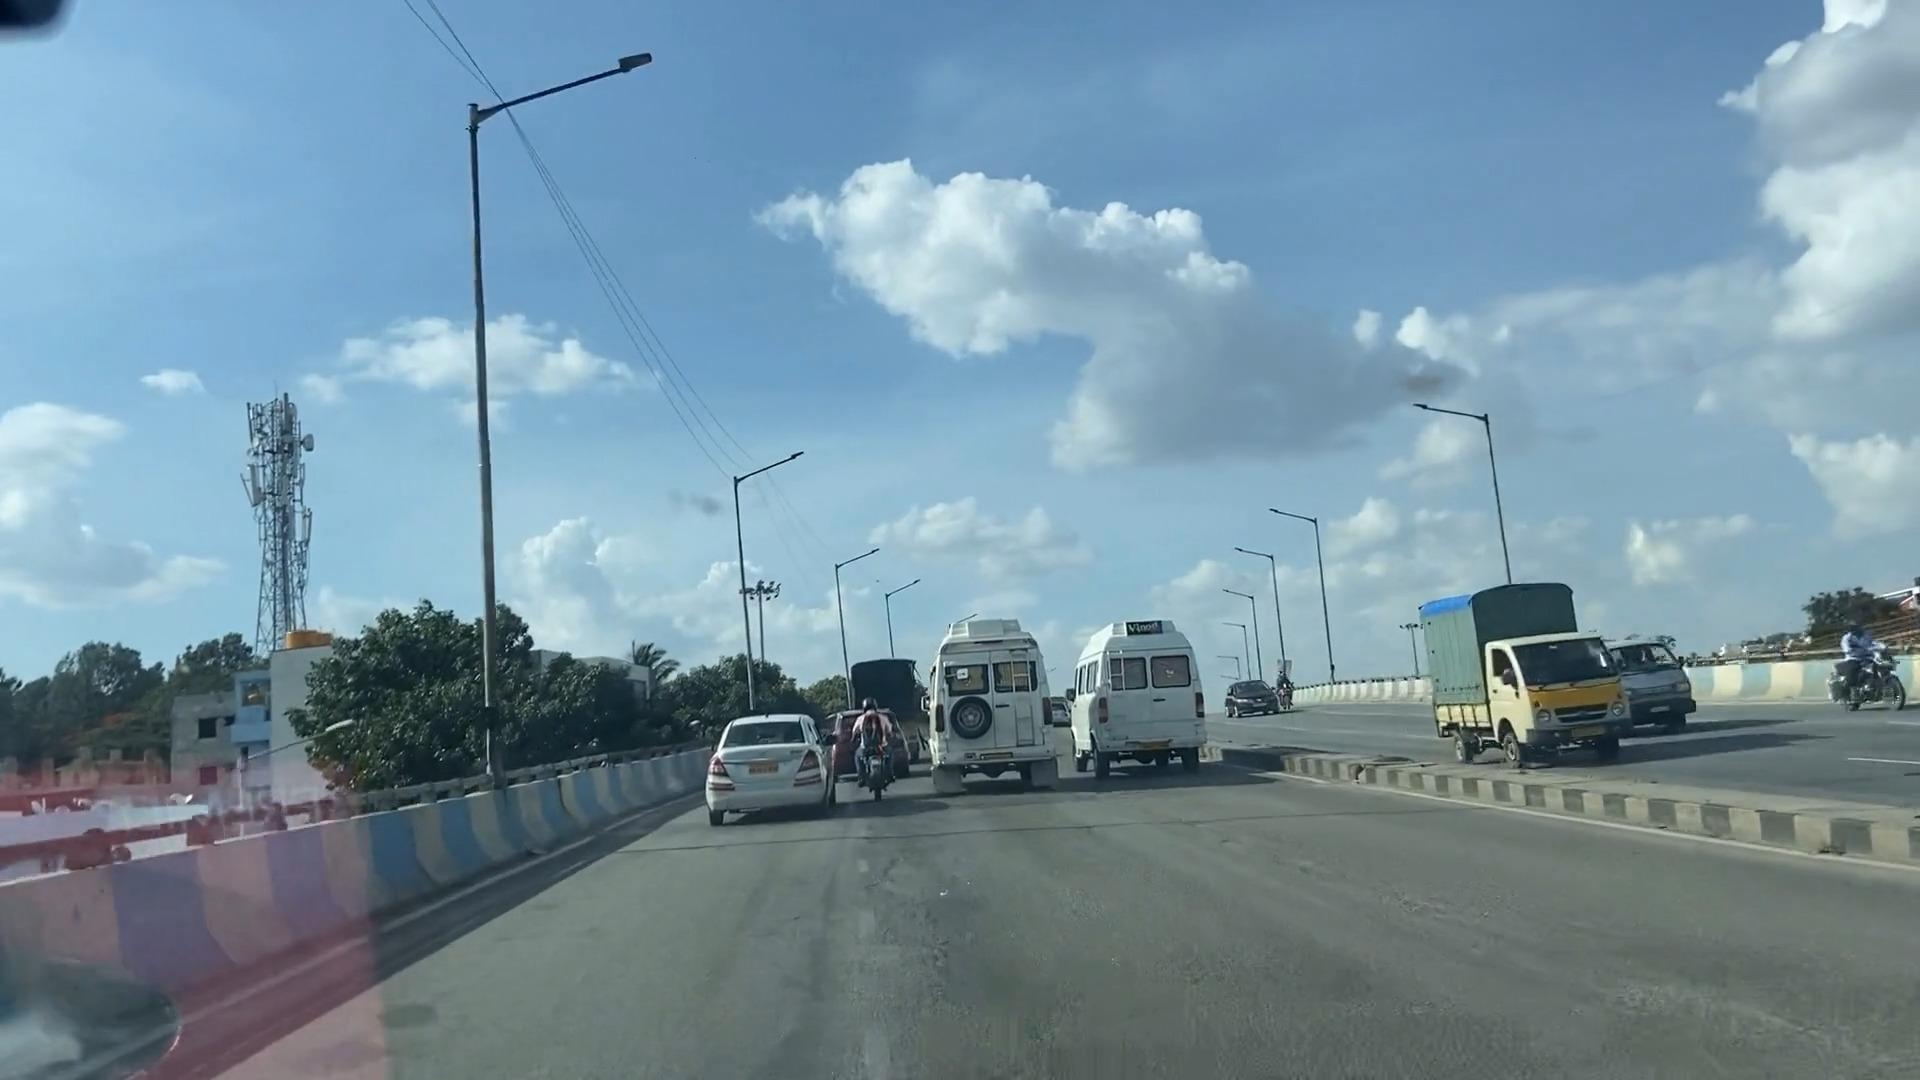HMV: (920, 604, 1063, 795), (1074, 610, 1206, 789)
LMV: (694, 710, 839, 831), (842, 678, 897, 795)
